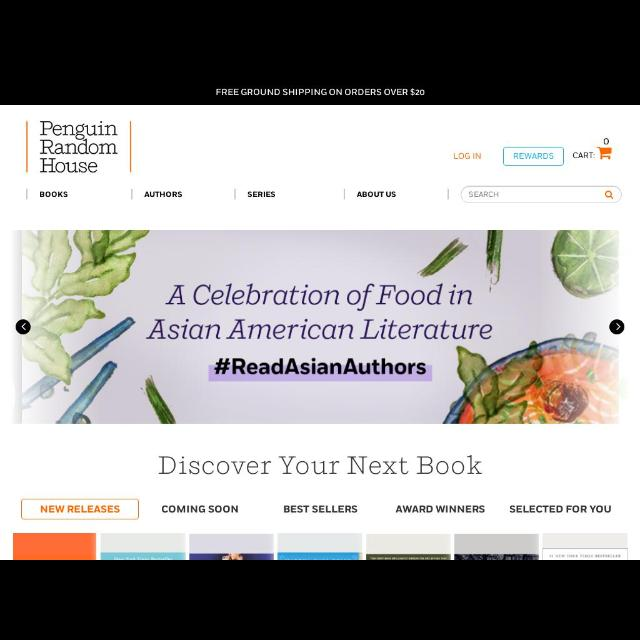button: (15, 320, 30, 334), (610, 320, 624, 334)
icon: (597, 146, 613, 160), (604, 190, 614, 200), (21, 324, 27, 331), (616, 323, 620, 331)
image: (12, 230, 620, 424), (26, 121, 132, 175), (102, 533, 186, 559), (189, 533, 273, 559), (278, 534, 362, 560), (366, 534, 450, 560), (454, 534, 538, 560), (542, 533, 626, 559), (13, 533, 96, 559)
input: (461, 186, 623, 204)
multitab: (161, 504, 613, 514), (39, 190, 397, 198)
text: (159, 456, 483, 474), (217, 88, 426, 96), (510, 505, 612, 513), (162, 504, 240, 514), (284, 504, 358, 514), (396, 505, 484, 513), (40, 505, 120, 513), (513, 152, 555, 160), (144, 190, 182, 198), (468, 190, 499, 198), (356, 191, 396, 197), (452, 152, 482, 160), (40, 190, 68, 198), (248, 191, 274, 199), (572, 152, 596, 160), (602, 138, 610, 146)
textbutton: (22, 498, 140, 520), (504, 146, 564, 166)
